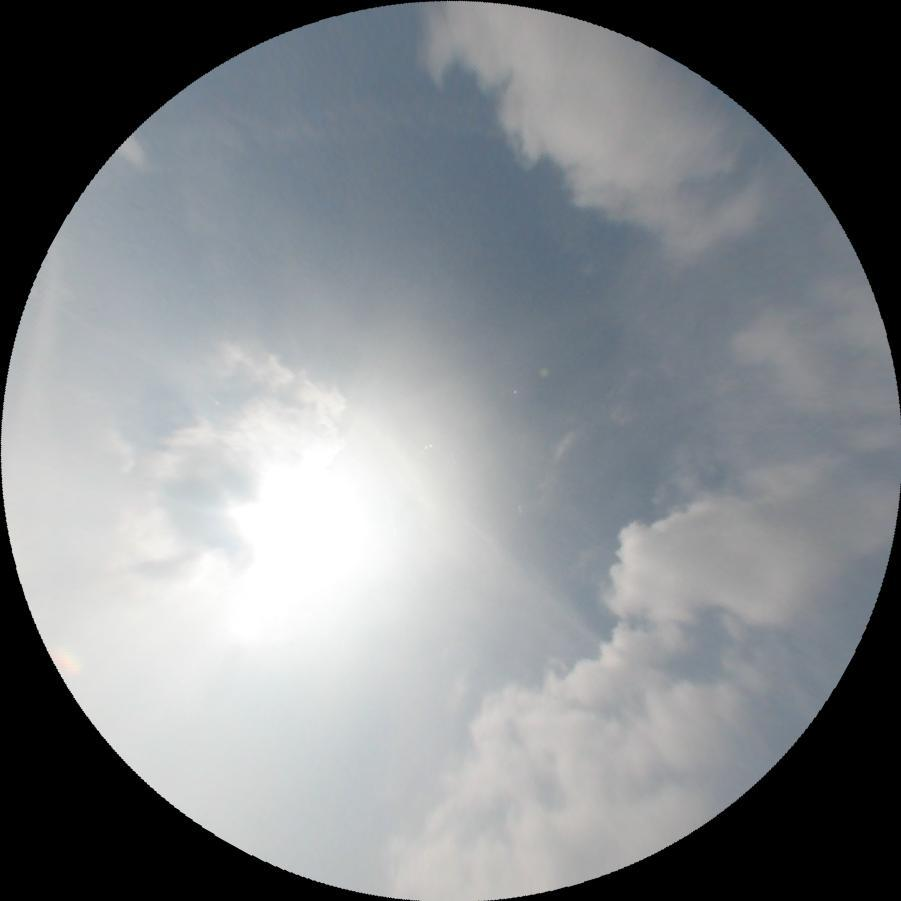sun: (181, 437, 392, 650)
